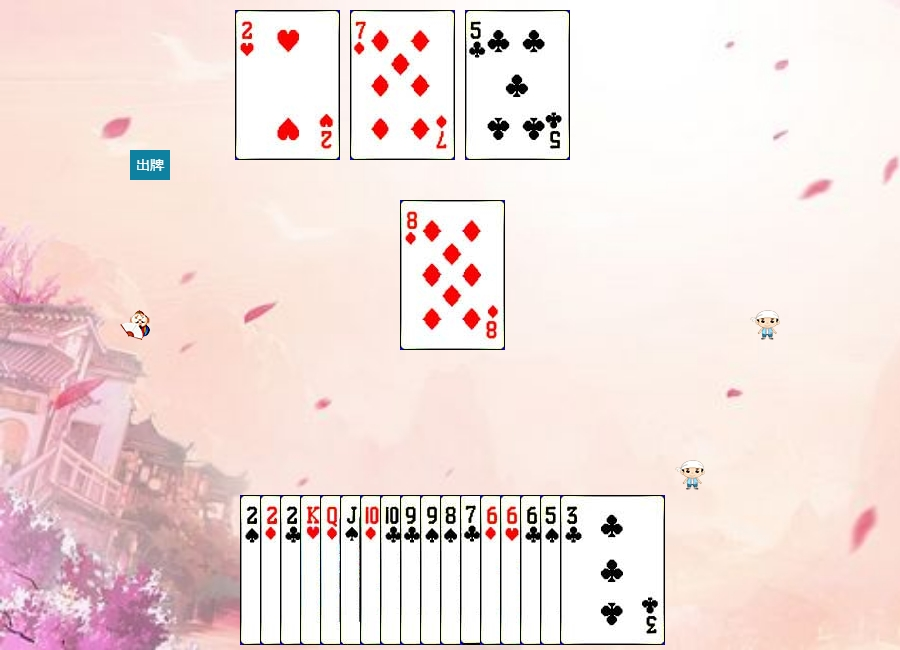10~1: (360, 495, 465, 645)
10~2: (380, 495, 485, 645)
11~4: (340, 495, 445, 645)
12~1: (320, 495, 425, 645)
13~3: (300, 495, 405, 645)
15~1: (260, 495, 365, 645)
15~2: (280, 495, 385, 645)
15~3: (235, 10, 340, 160)
15~4: (240, 495, 345, 645)
3~2: (560, 495, 665, 645)
5~2: (465, 10, 570, 160)
5~4: (540, 495, 645, 645)
6~1: (480, 495, 585, 645)
6~2: (520, 495, 625, 645)
6~3: (500, 495, 605, 645)
7~1: (350, 10, 455, 160)
7~2: (460, 495, 565, 645)
8~1: (400, 200, 505, 350)
8~4: (440, 495, 545, 645)
9~2: (400, 495, 505, 645)
9~4: (420, 495, 525, 645)
